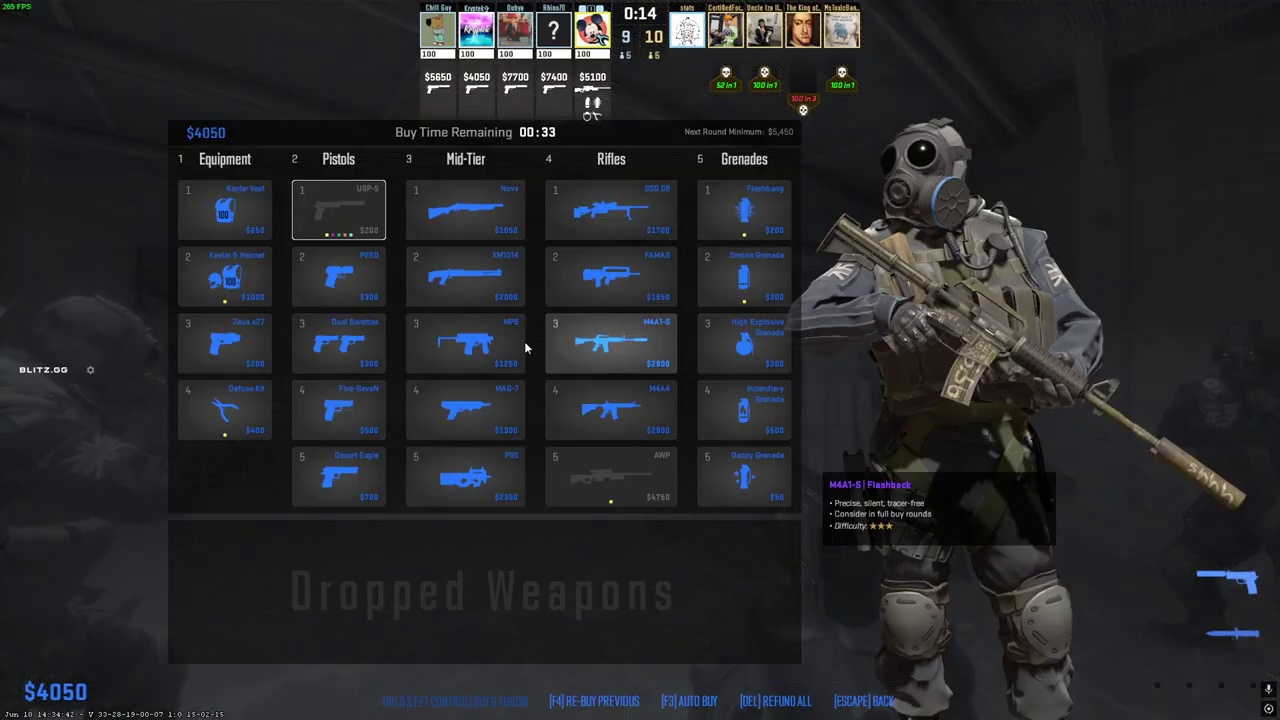CT: (851, 121, 1089, 720)
